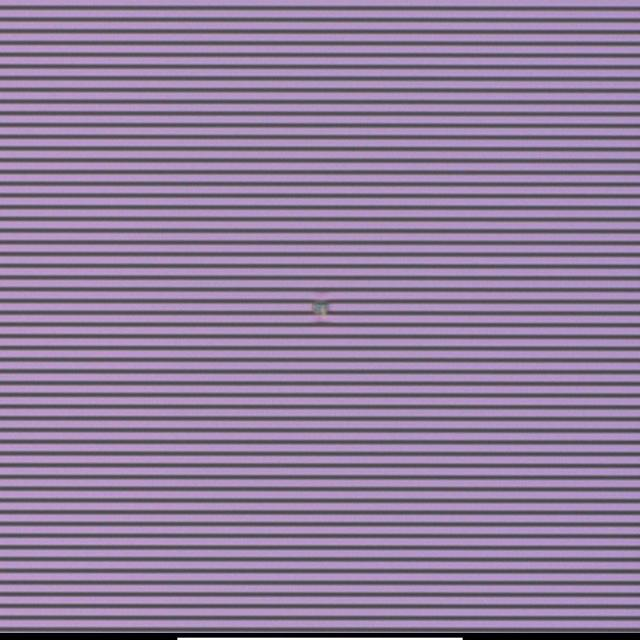03_intrusion: (313, 298, 332, 318)
